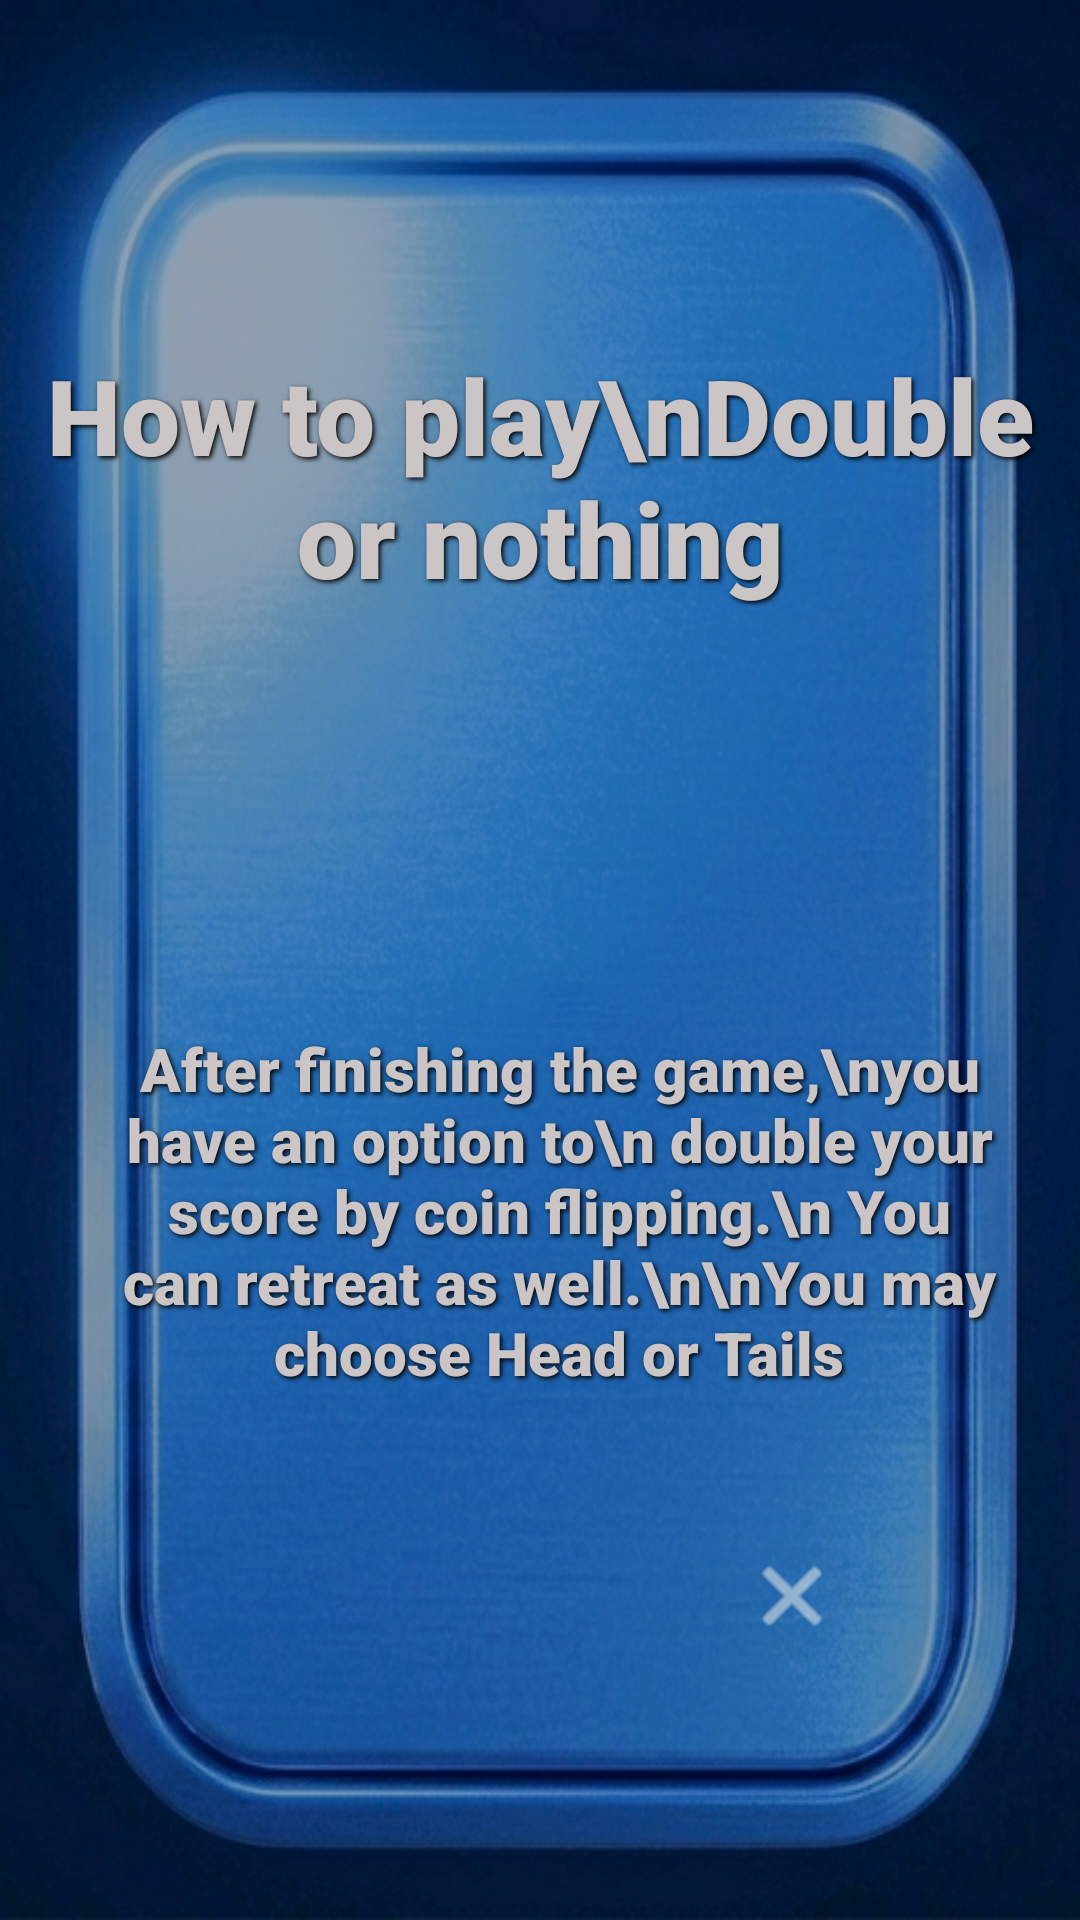

Where to tap for icons on this 1080px×1920px app screen, as (x,y):
close clear cancel: (807,1611)
